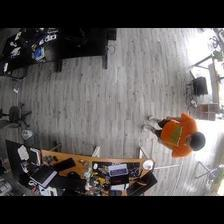normal: (142, 112, 205, 157)
